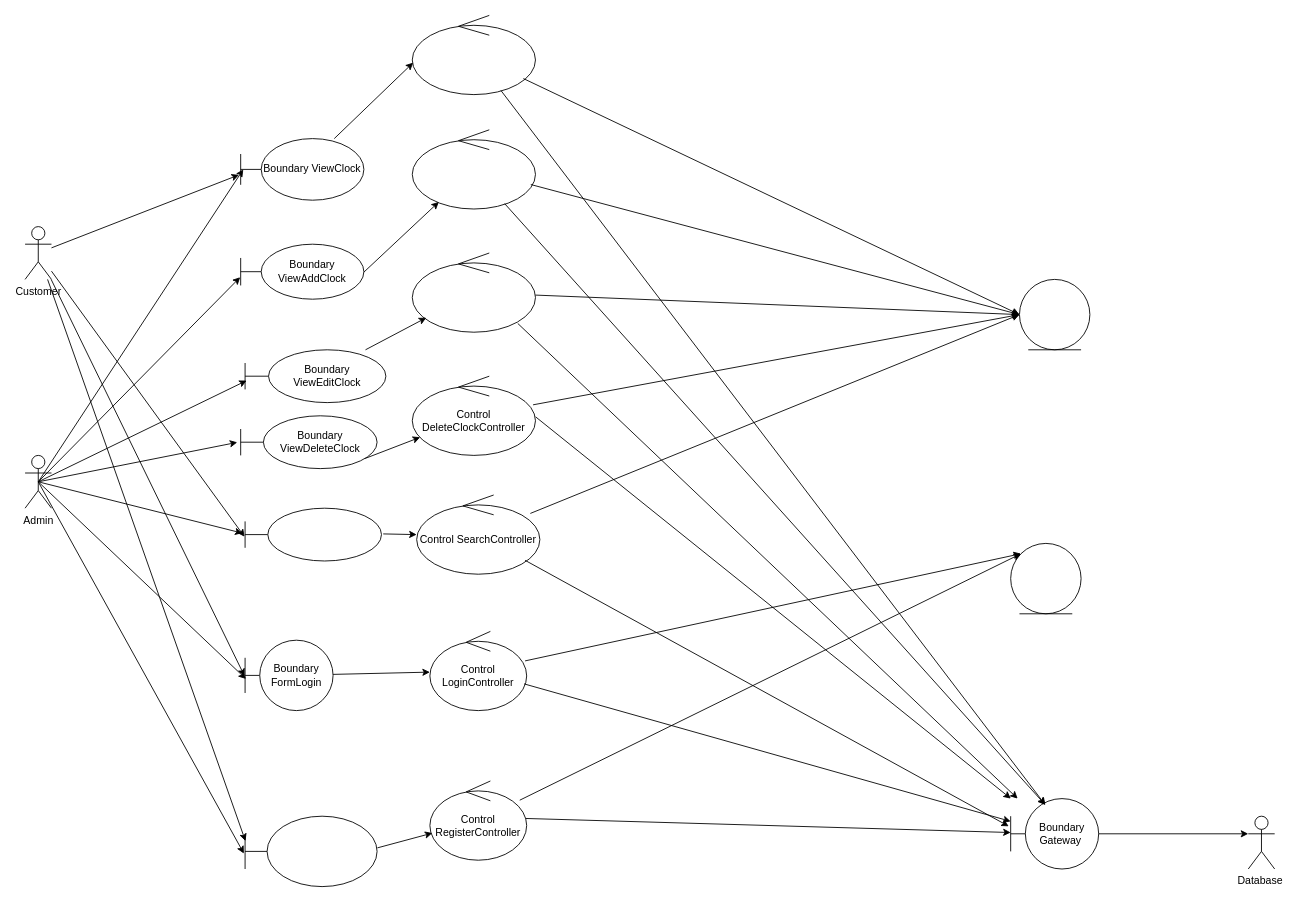
Image size: 1301x903. Some labels were removed from this diagram. The shapes that lost their labels are listed below. From the top down, each one's box as (x1, y1, x2, y2) in pixels, then its label:
(411, 15, 535, 95): Control ViewClockController
(411, 129, 535, 209): Control AddClockController
(411, 252, 535, 332): Control EditClockController
(1019, 279, 1090, 350): Entity Clock
(244, 507, 381, 561): Boundary ViewSearch
(1010, 543, 1081, 614): Entity User
(244, 815, 377, 887): Boundary FormRegister
